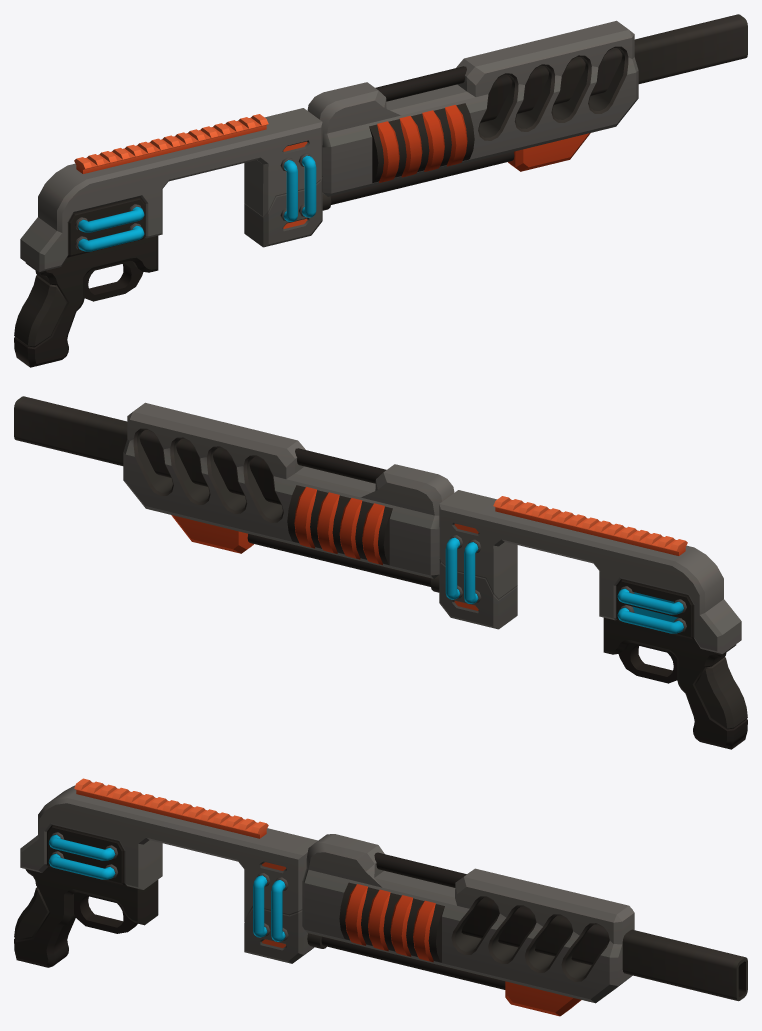
The picture shows the model from 3 angles, top to bottom: view 1: azimuth 30°, elevation 25°; view 2: azimuth 150°, elevation 25°; view 3: azimuth 330°, elevation 25°; orthographic projection.
Parts seen in each view (by area): view 1: MG4_Base; view 2: MG4_Base; view 3: MG4_Base.
Boxes of the visible parts, x1=… form: MG4_Base: x1=14, y1=14, x2=747, y2=367; MG4_Base: x1=14, y1=396, x2=747, y2=749; MG4_Base: x1=14, y1=778, x2=747, y2=1016.
Bounding box in the file's own units: 97.66 × 24.74 × 9.98.
